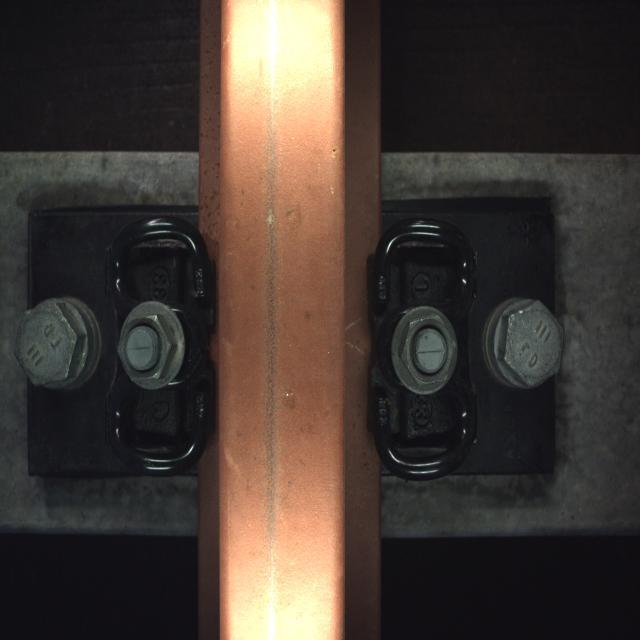normal: (240, 113, 320, 618)
